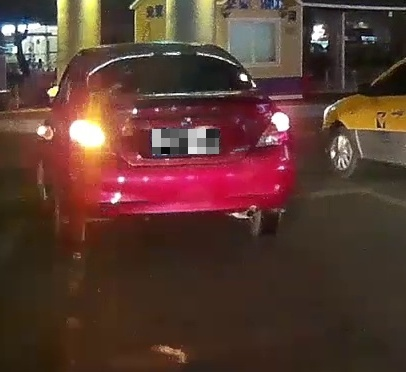L_light: (69, 119, 105, 149)
R_light: (255, 111, 290, 148)
T_light: (156, 55, 184, 58)
night-left: (68, 41, 295, 245)
plate_1: (152, 129, 219, 154)
